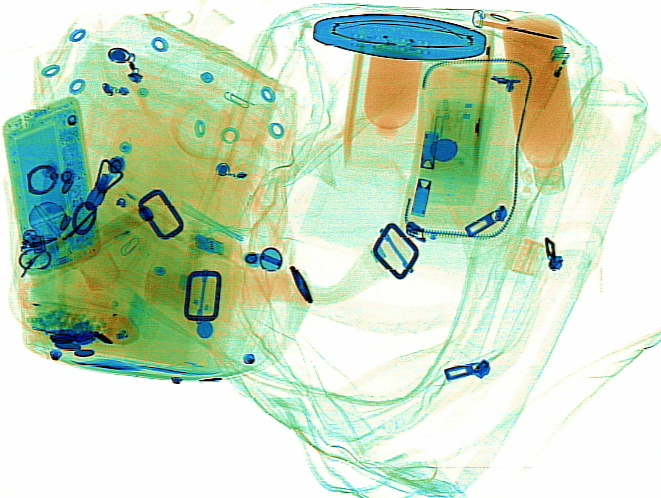lighter: (528, 43, 571, 108)
